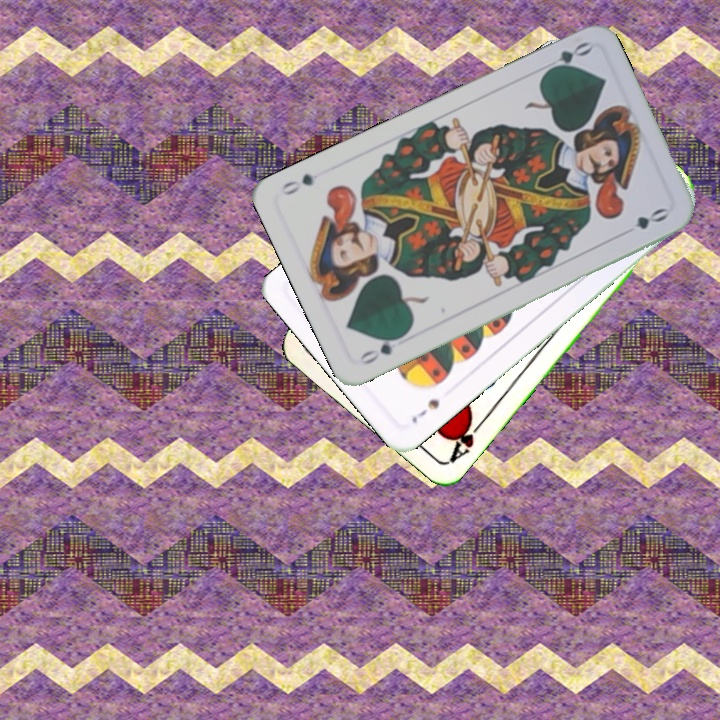GO: (540, 37, 594, 77), (355, 330, 408, 368)
HA: (445, 412, 489, 465)
S7: (407, 395, 443, 427)
